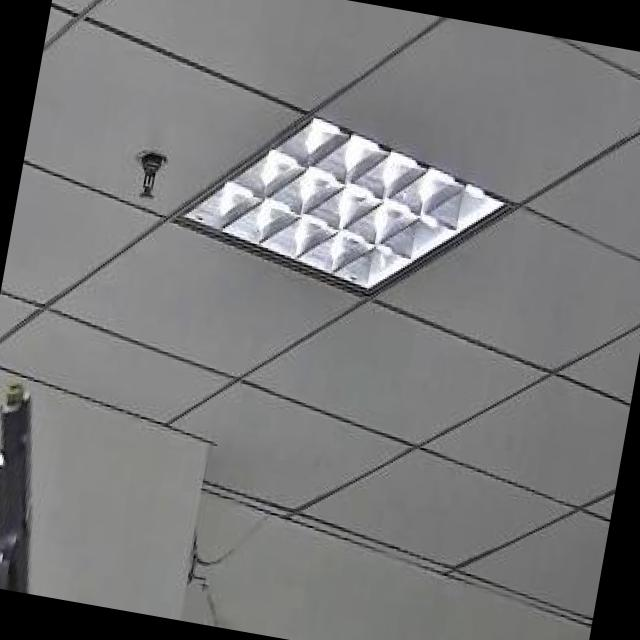Guns: (0, 343, 117, 602)
